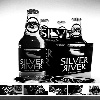beer: (17, 8, 47, 74)
